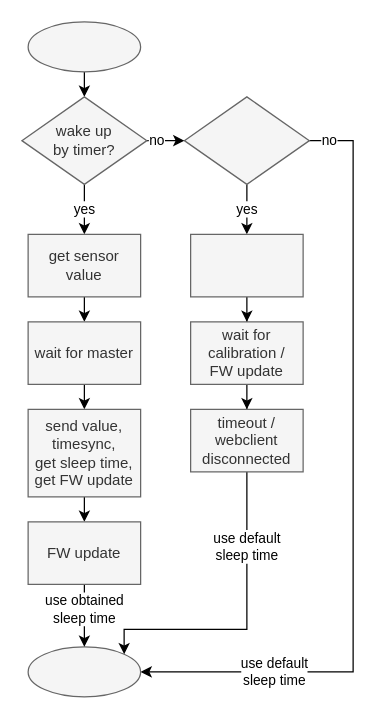
Some shapes in this 385 by 719 pixel diagram are drawn without their labels. The centre of each missing label's shape, as x and y in pixels:
Sleep: the point at 84,671
Start / wake up: the point at 84,46
start webserver: the point at 246,265
wake up by button?: the point at 246,140
